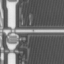dust: (32, 27, 35, 30)
